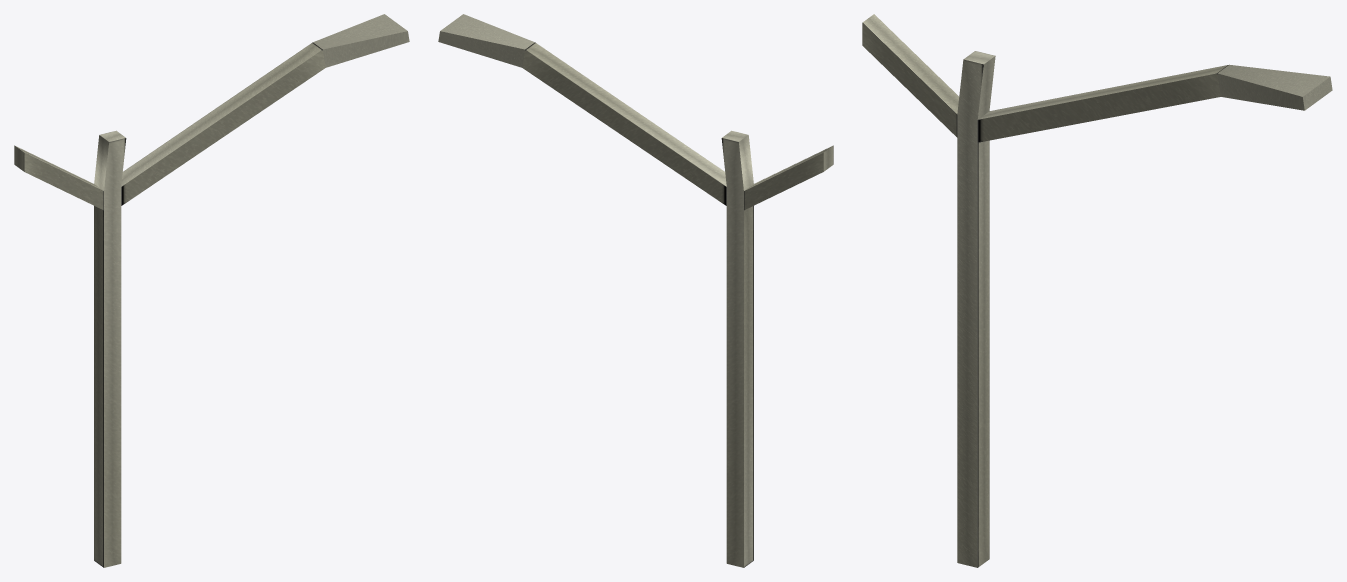
Rendered from postemap.fbx.
The picture shows the model from 3 angles, left to right: view 1: azimuth 30°, elevation 25°; view 2: azimuth 150°, elevation 25°; view 3: azimuth 330°, elevation 25°; orthographic projection. The views are drawn at different scales.
Visible parts, largest first — view 1: poste17; view 2: poste17; view 3: poste17.
Boxes of the visible parts, x1,y1,x2,y2 form: poste17: [14, 14, 409, 567]; poste17: [438, 14, 833, 567]; poste17: [862, 14, 1332, 567].
Size of the model in its own units: 0.3926 by 0.4648 by 0.042.
